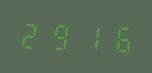nine: (46, 18, 73, 52)
one: (74, 19, 101, 53)
six: (102, 20, 129, 54)
two: (18, 18, 45, 51)
